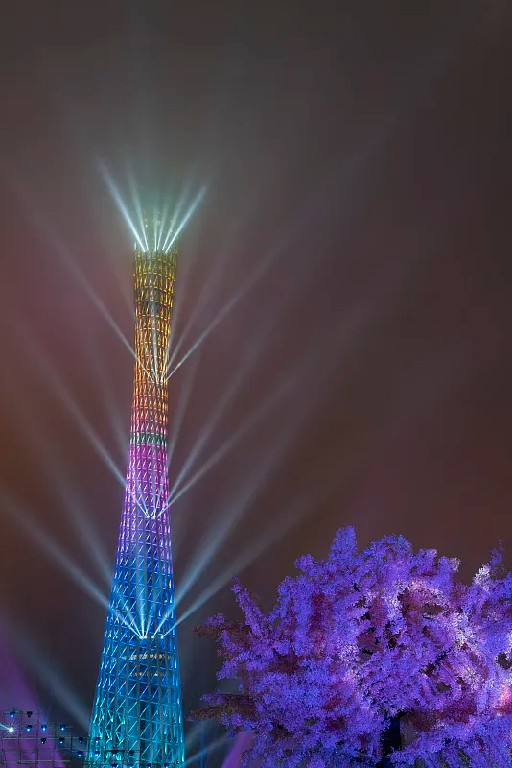Canton: (82, 161, 197, 765)
